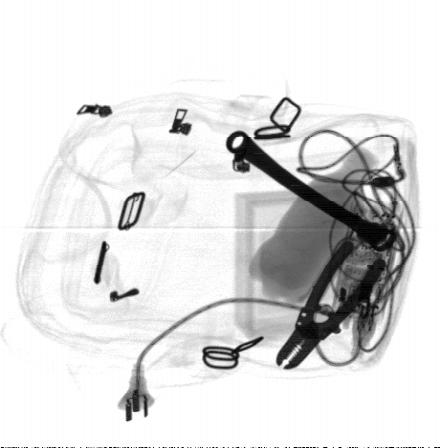Pliers: (275, 236, 387, 372)
Wrench: (225, 128, 398, 252)
